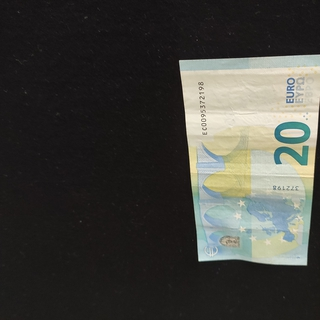20EUROBack: (178, 54, 320, 266)
